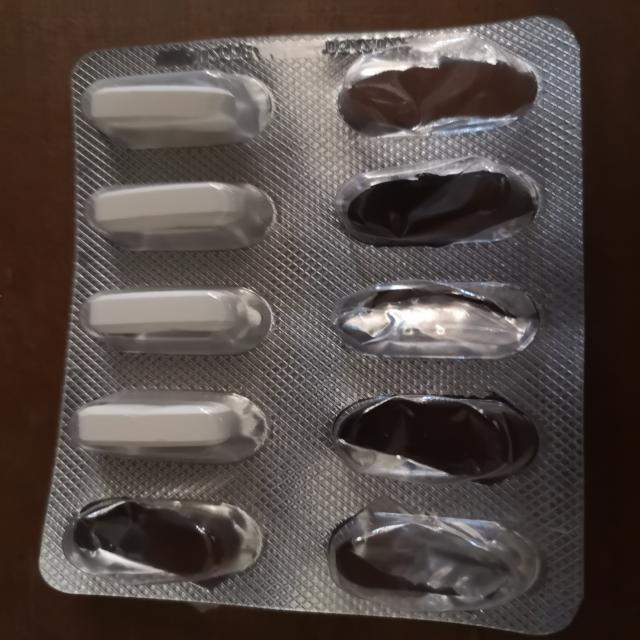Empty: (325, 500, 540, 608), (329, 40, 556, 140), (321, 385, 541, 485), (57, 487, 272, 589), (326, 156, 550, 250), (316, 274, 544, 362)
Pill: (68, 379, 281, 471), (79, 169, 287, 257), (74, 64, 281, 148), (76, 278, 278, 360)
